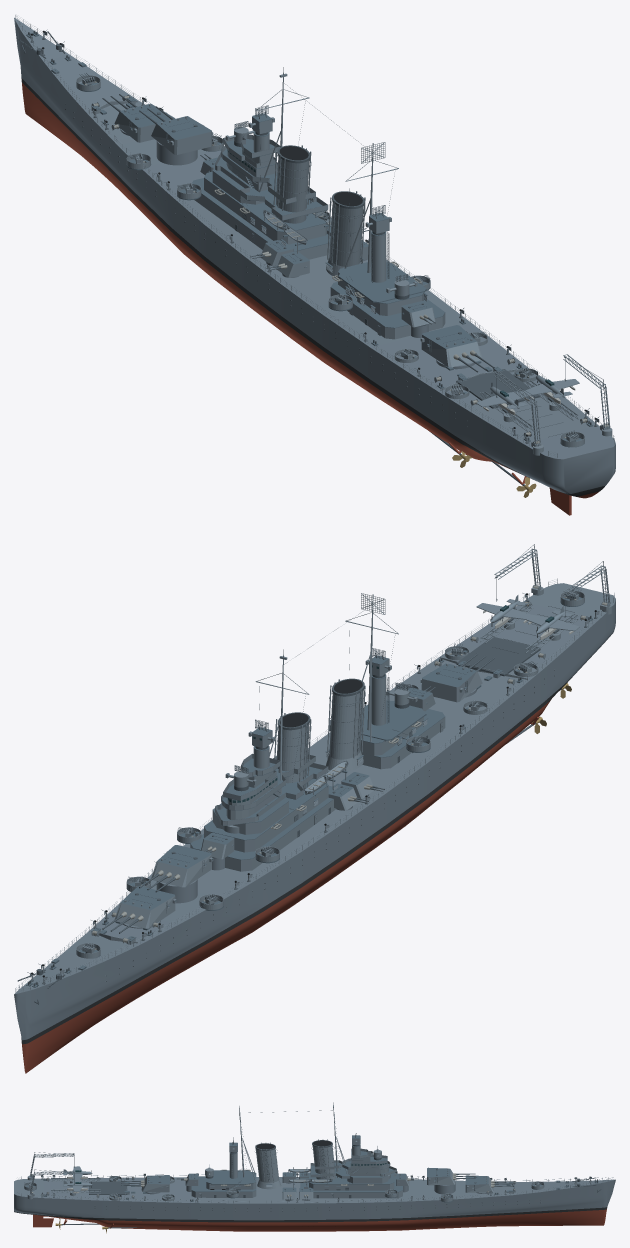
File: baltimore.glb
3 views of the same model, one above another, from view 1: azimuth 30°, elevation 25°; view 2: azimuth 150°, elevation 25°; view 3: azimuth 270°, elevation 25° (orthographic). The views are drawn at different scales.
Visible parts, largest first — view 1: Blueprint lofted hull, after-funnel.mesh, forward-funnel.mesh, forward-upper-deck.mesh, forward-deckhouse.mesh, main-3.yaw.mesh, main-2.yaw.mesh, aft-deckhouse.mesh, aft-platform.mesh, main-1.yaw.mesh, superstructure-service-fittings.mesh, hangar-coaming.mesh (+12 smaller); view 2: Blueprint lofted hull, after-funnel.mesh, forward-funnel.mesh, forward-upper-deck.mesh, forward-deckhouse.mesh, hangar-coaming.mesh, main-2.yaw.mesh, main-1.yaw.mesh, main-3.yaw.mesh, aft-deckhouse.mesh, aft-platform.mesh, bridge-wings.mesh (+9 smaller); view 3: Blueprint lofted hull, after-funnel.mesh, forward-upper-deck.mesh, forward-deckhouse.mesh, forward-funnel.mesh, aft-deckhouse.mesh, aft-platform.mesh, hangar-coaming.mesh, bridge-wings.mesh, main-1.yaw.mesh, main-3.yaw.mesh, main-2.yaw.mesh (+17 smaller).
Part boxes in pixels (x1,y1,x2,y2): Blueprint lofted hull: (14,17,615,498); after-funnel.mesh: (326,191,365,276); forward-funnel.mesh: (273,145,311,223); forward-upper-deck.mesh: (204,171,328,244); forward-deckhouse.mesh: (191,178,330,259); main-3.yaw.mesh: (420,325,482,367); main-2.yaw.mesh: (151,116,213,154); aft-deckhouse.mesh: (330,282,445,339); aft-platform.mesh: (338,262,426,303); main-1.yaw.mesh: (114,103,175,142); superstructure-service-fittings.mesh: (236,152,427,335); hangar-coaming.mesh: (456,369,540,408); Blueprint lofted hull: (14,583,615,1073); after-funnel.mesh: (326,678,365,771); forward-funnel.mesh: (274,712,311,789); forward-upper-deck.mesh: (204,778,328,852); forward-deckhouse.mesh: (190,786,336,871); hangar-coaming.mesh: (456,636,540,676); main-2.yaw.mesh: (151,845,213,887); main-1.yaw.mesh: (114,886,176,928); main-3.yaw.mesh: (420,663,482,702); aft-deckhouse.mesh: (361,701,445,769); aft-platform.mesh: (361,702,426,740); bridge-wings.mesh: (215,763,328,825); Blueprint lofted hull: (14,1177,615,1231); after-funnel.mesh: (255,1142,281,1189); forward-upper-deck.mesh: (309,1172,394,1190); forward-deckhouse.mesh: (300,1176,402,1198); forward-funnel.mesh: (312,1139,335,1179); aft-deckhouse.mesh: (191,1176,256,1197); aft-platform.mesh: (209,1170,250,1184); hangar-coaming.mesh: (89,1181,127,1194); bridge-wings.mesh: (310,1163,396,1178); main-1.yaw.mesh: (465,1175,493,1192); main-3.yaw.mesh: (142,1175,169,1192); main-2.yaw.mesh: (427,1167,455,1185).
Bounding box in the file's own units: 23.95 × 47 × 205.
